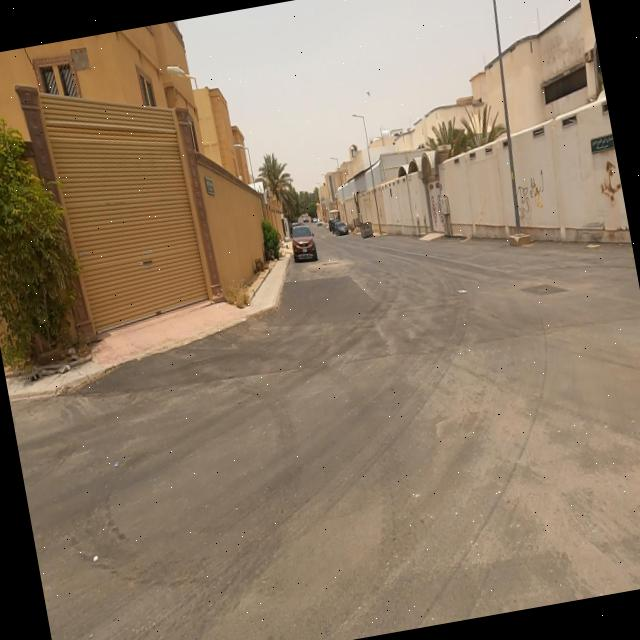Graffiti: (514, 169, 554, 222), (597, 161, 625, 207)
